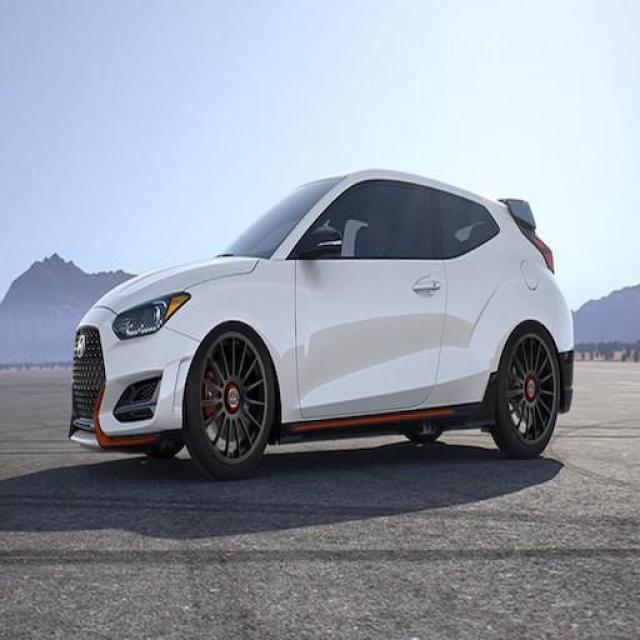front_bumper: (70, 309, 199, 450)
front_glass: (219, 179, 346, 259)
front_left_door: (296, 179, 446, 418)
front_left_light: (110, 290, 191, 340)
hood: (93, 256, 263, 312)
left_mirror: (302, 227, 342, 259)
wheel: (182, 321, 563, 481)
